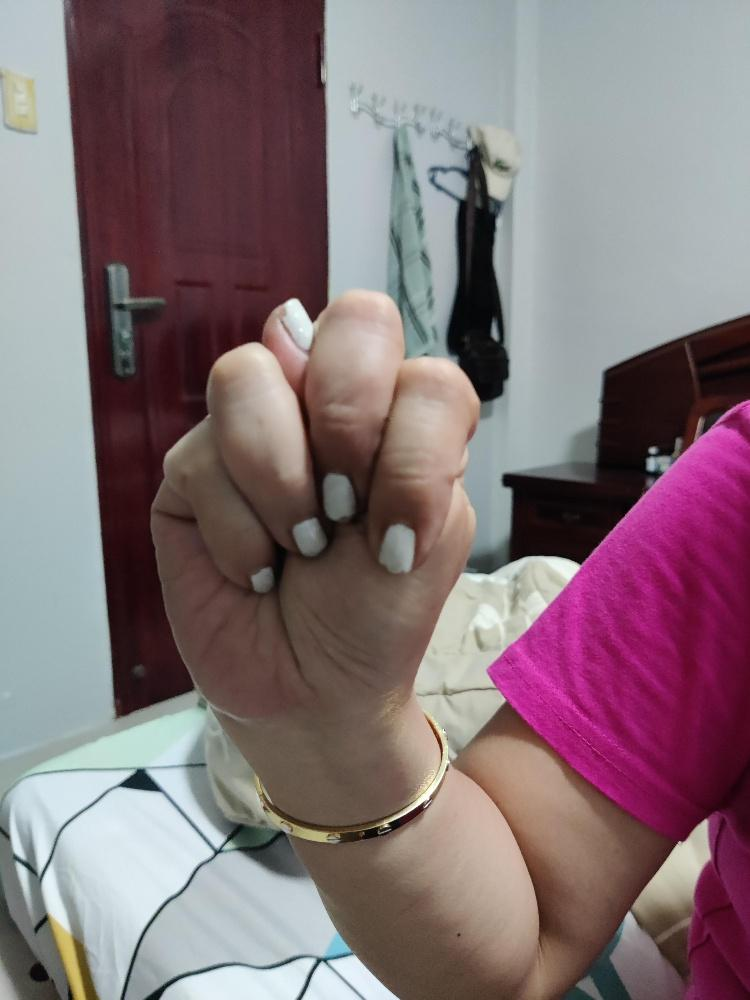n: (145, 286, 483, 726)
